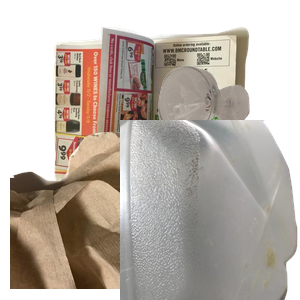glass: (156, 64, 300, 194)
paper: (51, 24, 291, 204)
plastic: (120, 120, 300, 300)
trash: (10, 120, 229, 300)
